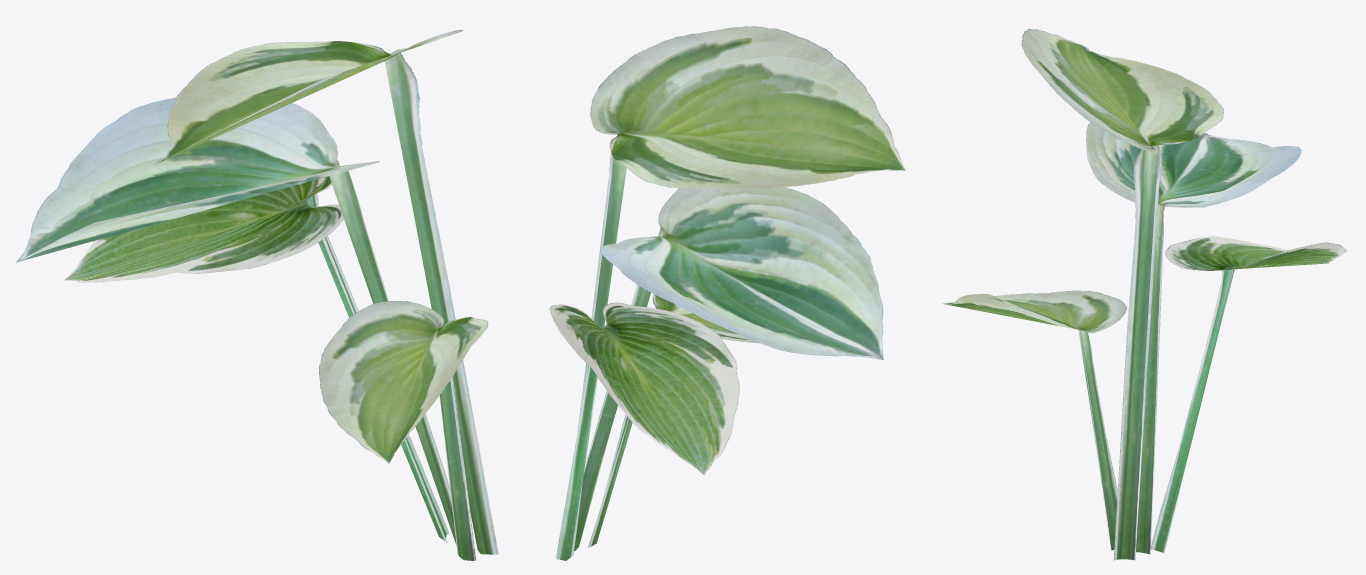
Rendered from plant_small_wg_00_line_filler_08.fbx.
The picture shows the model from 3 angles, left to right: view 1: azimuth 30°, elevation 25°; view 2: azimuth 150°, elevation 25°; view 3: azimuth 270°, elevation 25°; orthographic projection. The views are drawn at different scales.
Parts seen in each view (by area): view 1: plant_small_wg_00_line_filler_08; view 2: plant_small_wg_00_line_filler_08; view 3: plant_small_wg_00_line_filler_08.
Boxes of the visible parts, x1=… form: plant_small_wg_00_line_filler_08: x1=15, y1=30, x2=498, y2=560; plant_small_wg_00_line_filler_08: x1=549, y1=26, x2=905, y2=560; plant_small_wg_00_line_filler_08: x1=942, y1=29, x2=1346, y2=560.
Bounding box in the file's own units: 27.25 × 36.29 × 30.
1 material, 1 textured.
